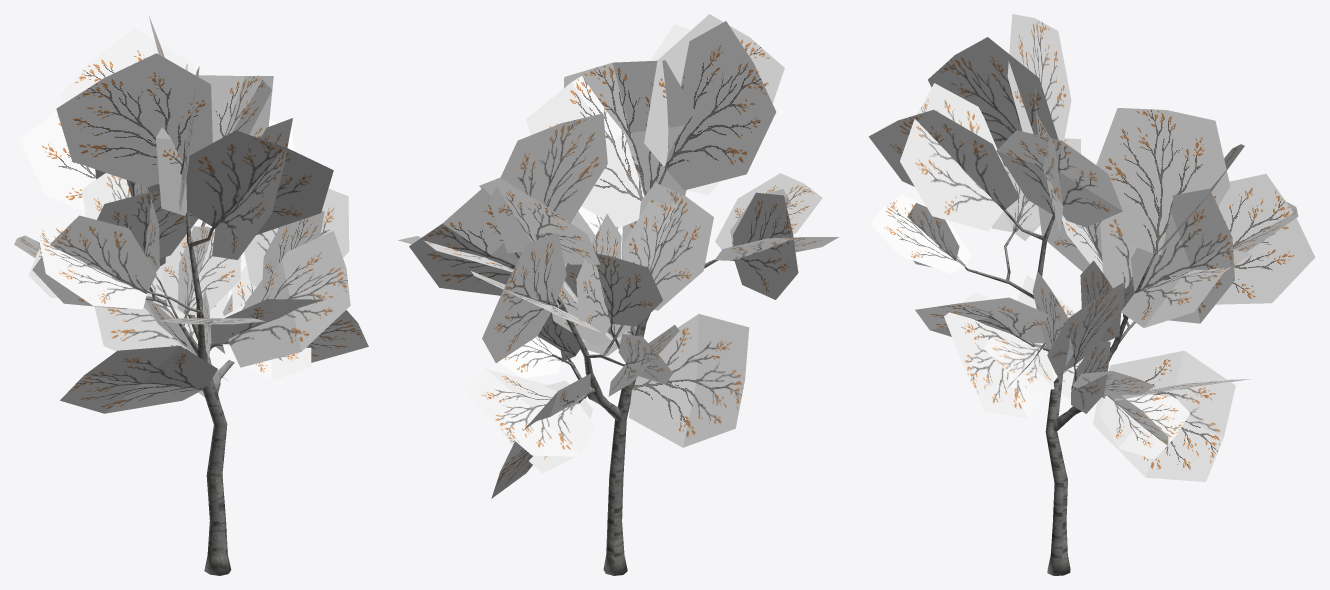
Rendered from TREE_Birch_B.fbx.
3 views of the same model, side by side, from view 1: azimuth 30°, elevation 25°; view 2: azimuth 150°, elevation 25°; view 3: azimuth 270°, elevation 25° (orthographic). The views are drawn at different scales.
Visible parts, largest first — view 1: Tree_Birch_Large; view 2: Tree_Birch_Large; view 3: Tree_Birch_Large.
Boxes of the visible parts, x1,y1,x2,y2 form: Tree_Birch_Large: (14,15,368,575); Tree_Birch_Large: (398,14,838,575); Tree_Birch_Large: (868,14,1315,575).
Size of the model in its own units: 1493 by 2296 by 1796.
